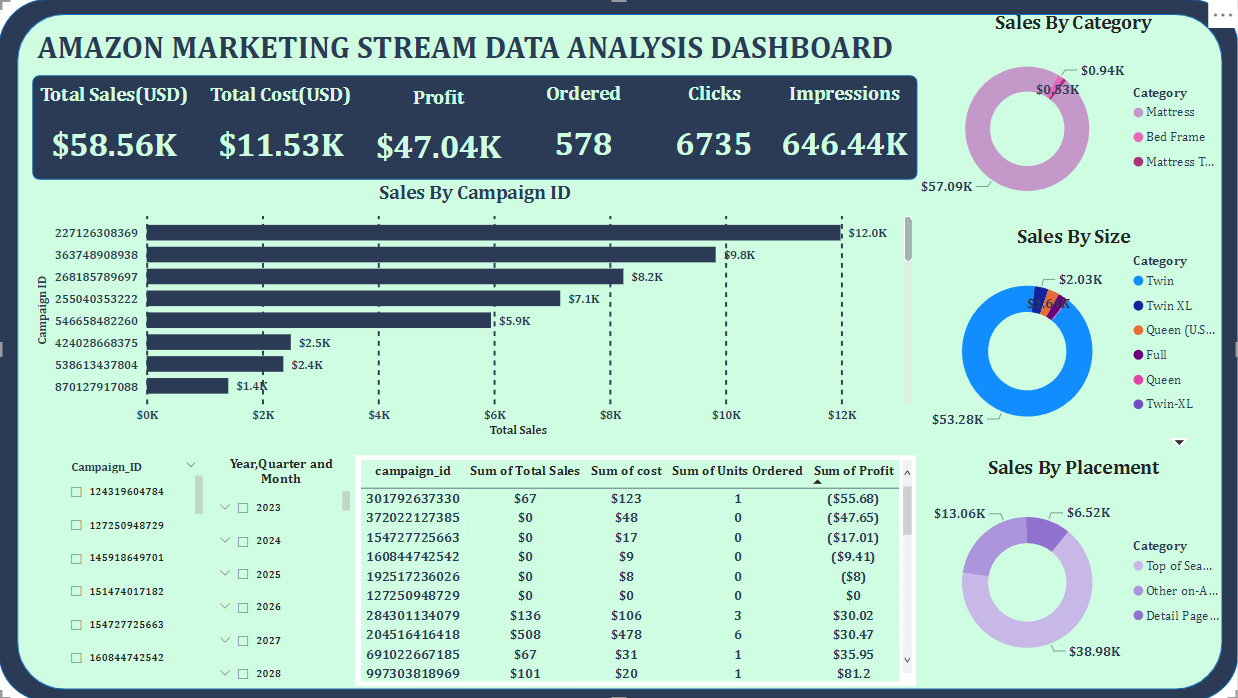

This screenshot's page, from the dashboard's own definition file:
{"tool":"powerbi","page":{"name":"Page 1","canvas":[1280,720],"ordinal":0},"visuals":[{"type":"shape","box":[9.6,0,1270.7,720.4],"z":0},{"type":"shape","box":[26.9,14.8,1235.9,692.6],"z":1000},{"type":"shape","box":[41.7,78,907.8,107.6],"z":2000},{"type":"card","title":"Total Sales(USD)","fields":{"Values":["Sum(time_window_start.attributed_sales_7d)"]},"box":[42,86,167,101],"z":3000},{"type":"card","title":"Total Cost(USD)","fields":{"Values":["Sum(time_window_start.cost)"]},"box":[209,86,176,100],"z":4000},{"type":"card","title":"Profit","fields":{"Values":["Sum(time_window_start.Profit)"]},"box":[385,88,148,99],"z":5000},{"type":"card","title":"Ordered","fields":{"Values":["Sum(time_window_start.attributed_units_ordered_7d)"]},"box":[533,84,148,101],"z":6000},{"type":"card","title":"Clicks","fields":{"Values":["Sum(time_window_start.clicks)"]},"box":[681,84,122,101],"z":7000},{"type":"card","title":"Impressions","fields":{"Values":["Sum(time_window_start.impressions)"]},"box":[803,84,146,101],"z":8000},{"type":"donutChart","title":"Sales By Category","fields":{"Category":["product_description.category"],"Y":["Sum(time_window_start.attributed_sales_7d)"]},"box":[949.4,12.1,320.1,219.2],"z":9000},{"type":"donutChart","title":"Sales By Placement","fields":{"Y":["Sum(time_window_start.attributed_sales_7d)"],"Category":["time_window_start.placement"]},"box":[949.4,468,320.1,236.7],"z":10000},{"type":"clusteredBarChart","title":"Sales By Campaign ID","fields":{"Category":["time_window_start.campaign_id"],"Y":["Sum(time_window_start.attributed_sales_7d)"]},"box":[41.7,185.6,907.8,267.6],"z":11000},{"type":"donutChart","title":"Sales By Size","fields":{"Y":["Sum(time_window_start.attributed_sales_7d)"],"Category":["product_description.size"]},"box":[949.4,231.3,320.1,236.7],"z":12000},{"type":"tableEx","fields":{"Values":["time_window_start.campaign_id","Sum(time_window_start.attributed_sales_7d)","Sum(time_window_start.cost)","Sum(time_window_start.attributed_units_ordered_7d)","Sum(time_window_start.Profit)"]},"box":[373,468,576,237],"z":13000},{"type":"slicer","fields":{"Values":["time_window_start.campaign_id"]},"box":[69,468,153,237],"z":14000},{"type":"slicer","title":"Year,Quarter and Month","fields":{"Values":["time_window_start.timedata_pst.1.Variation.Date Hierarchy.Year","time_window_start.timedata_pst.1.Variation.Date Hierarchy.Quarter","time_window_start.timedata_pst.1.Variation.Date Hierarchy.Month"]},"box":[222,468,151,237],"z":15000},{"type":"textbox","box":[41.7,25.6,917.2,52.4],"z":16000}]}

Visuals, with their boxes in screenshot pixels (x1, y1, x2, y2), scaled from the page's 1280x720 canvas onto the 1238x698 screenshot:
shape: [x1=9, y1=0, x2=1237, y2=697]
shape: [x1=26, y1=14, x2=1221, y2=686]
shape: [x1=40, y1=76, x2=918, y2=180]
"Total Sales(USD)" card: [x1=41, y1=83, x2=202, y2=181]
"Total Cost(USD)" card: [x1=202, y1=83, x2=372, y2=180]
"Profit" card: [x1=372, y1=85, x2=516, y2=181]
"Ordered" card: [x1=516, y1=81, x2=659, y2=179]
"Clicks" card: [x1=659, y1=81, x2=777, y2=179]
"Impressions" card: [x1=777, y1=81, x2=918, y2=179]
"Sales By Category" donutChart: [x1=918, y1=12, x2=1228, y2=224]
"Sales By Placement" donutChart: [x1=918, y1=454, x2=1228, y2=683]
"Sales By Campaign ID" clusteredBarChart: [x1=40, y1=180, x2=918, y2=439]
"Sales By Size" donutChart: [x1=918, y1=224, x2=1228, y2=454]
tableEx - time_window_start.campaign_id x Sum(time_window_start.attributed_sales_7d): [x1=361, y1=454, x2=918, y2=683]
slicer - time_window_start.campaign_id: [x1=67, y1=454, x2=215, y2=683]
"Year,Quarter and Month" slicer: [x1=215, y1=454, x2=361, y2=683]
textbox: [x1=40, y1=25, x2=927, y2=76]
